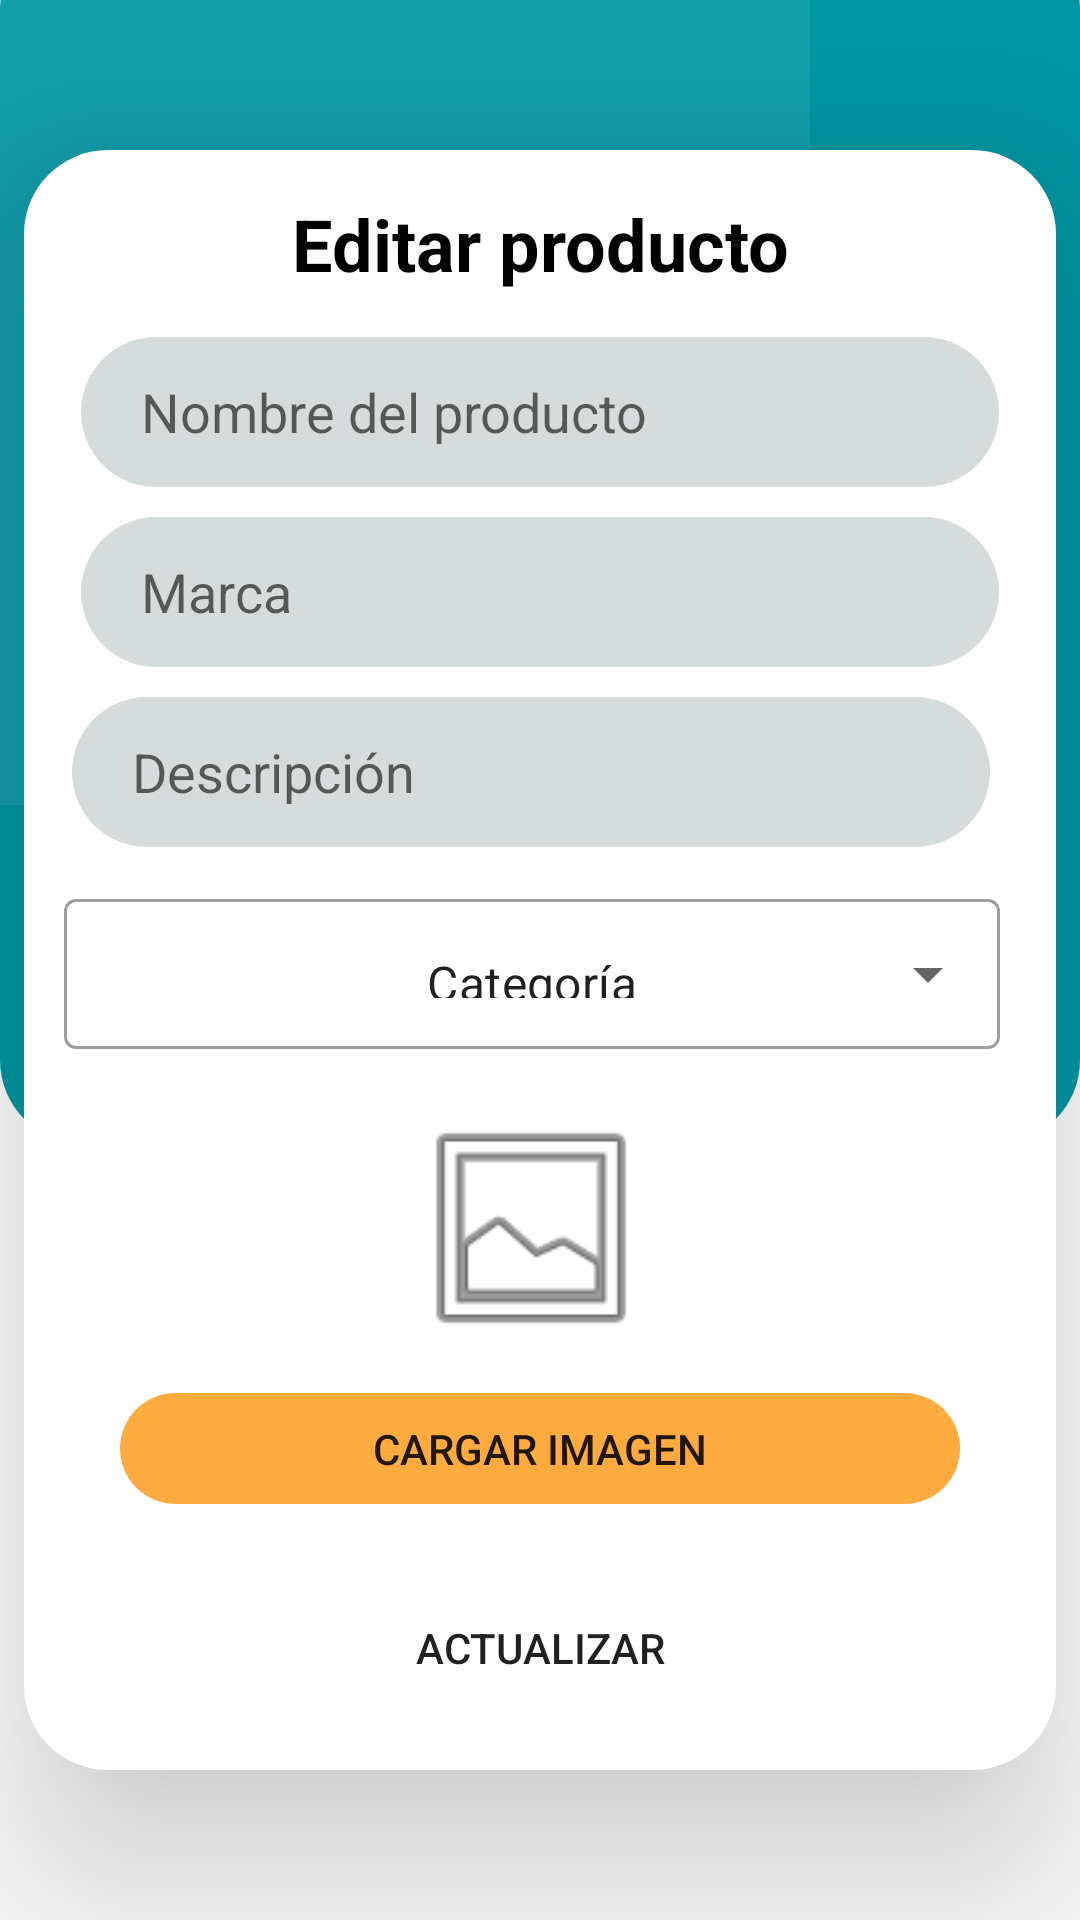

Screen size 1080w x 1920h. Icon name, then its center in pixels as [x,y]:
gallery: [531,1228]
